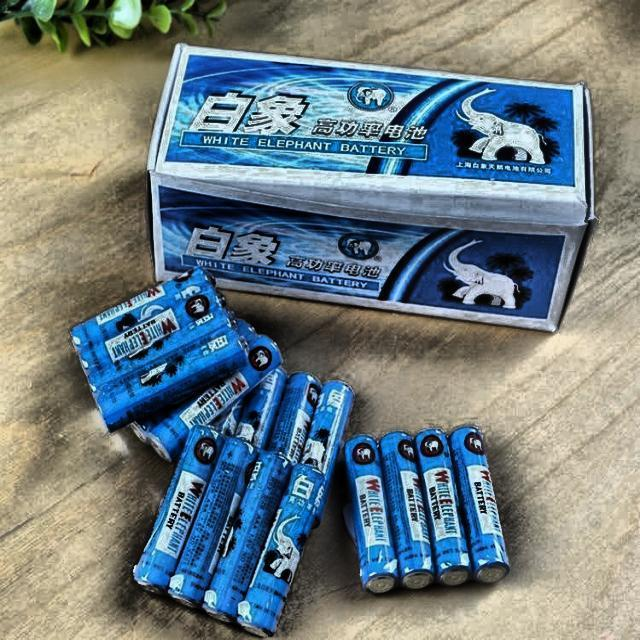battery: (134, 427, 322, 634), (71, 268, 246, 429), (449, 427, 510, 583), (414, 429, 471, 586), (379, 432, 435, 590), (344, 436, 398, 593)
